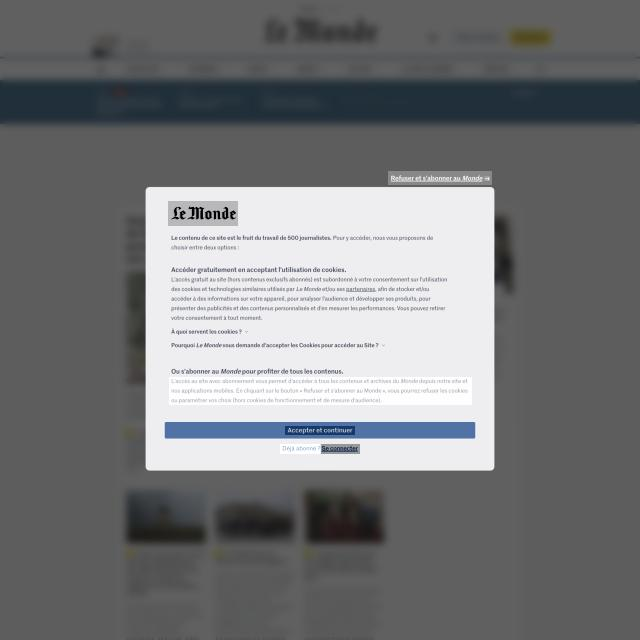CheckBox: (165, 421, 475, 439), (388, 171, 492, 185), (321, 444, 360, 454)
Input field: (169, 377, 472, 405), (280, 444, 320, 454)
carousel: (484, 176, 490, 181)
data feed: (285, 426, 355, 435)
date picker: (168, 201, 238, 226)
